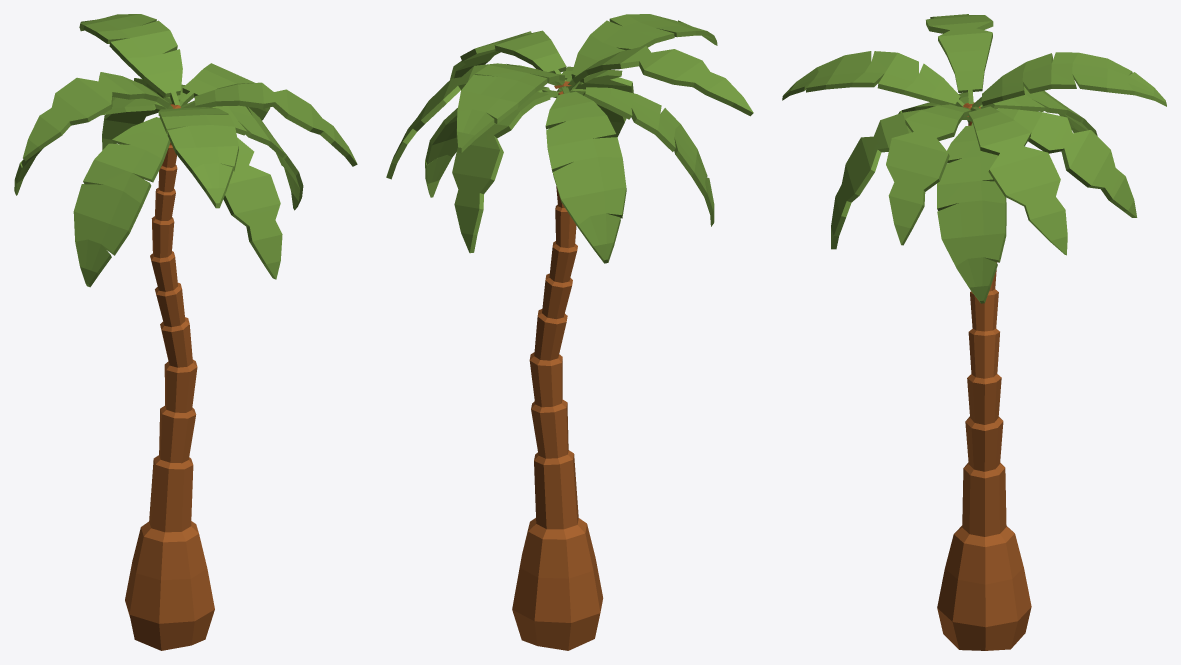
The model's file is coconut_tree.glb.
3 views of the same model, side by side, from view 1: azimuth 30°, elevation 25°; view 2: azimuth 150°, elevation 25°; view 3: azimuth 270°, elevation 25° (orthographic). The views are drawn at different scales.
Visible parts, largest first — view 1: M_Coconut Tree 1; view 2: M_Coconut Tree 1; view 3: M_Coconut Tree 1.
Boxes of the visible parts, bbox=[...] form: M_Coconut Tree 1: bbox=[14, 14, 357, 650]; M_Coconut Tree 1: bbox=[386, 14, 753, 650]; M_Coconut Tree 1: bbox=[782, 14, 1166, 650].
Bounding box in the file's own units: 4.04 × 7.2 × 4.28.
Materials: 1 (1 with a texture image).
